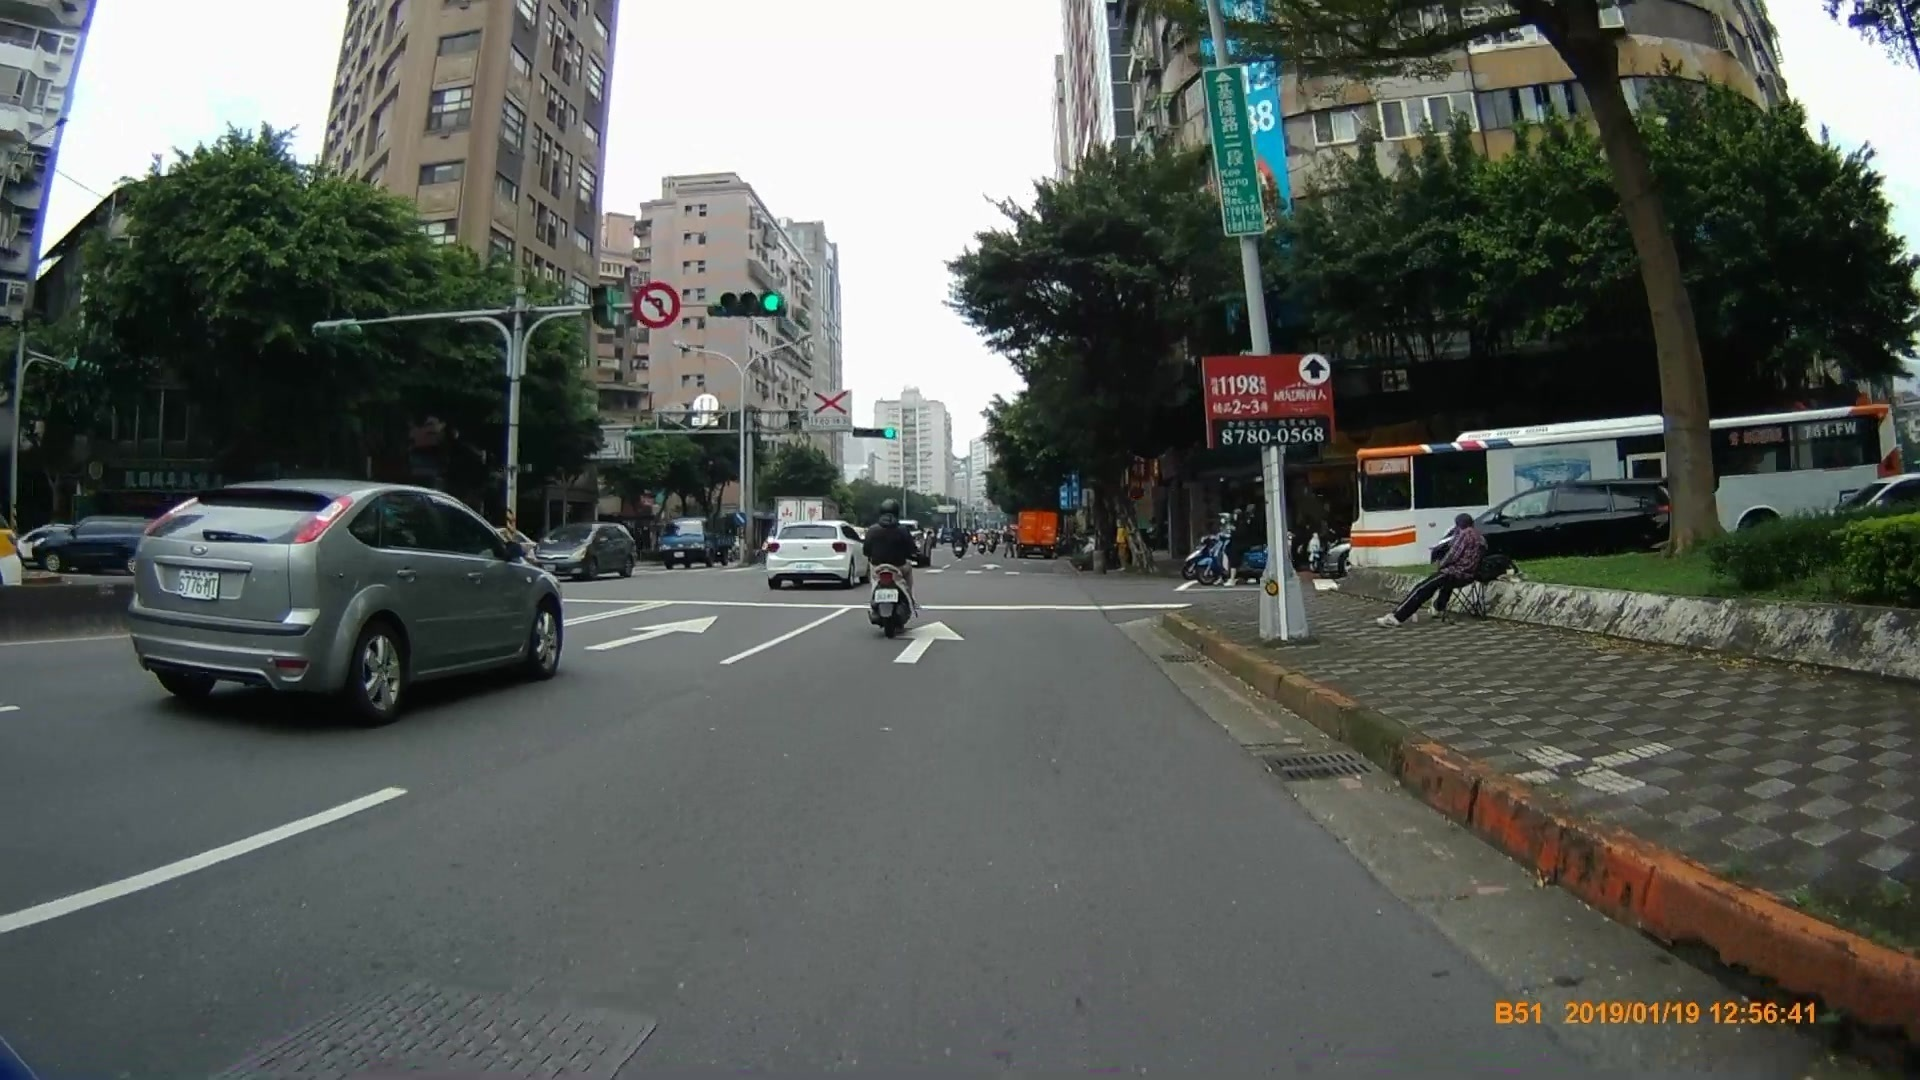License_plate: (174, 566, 223, 598), (874, 588, 897, 605)
